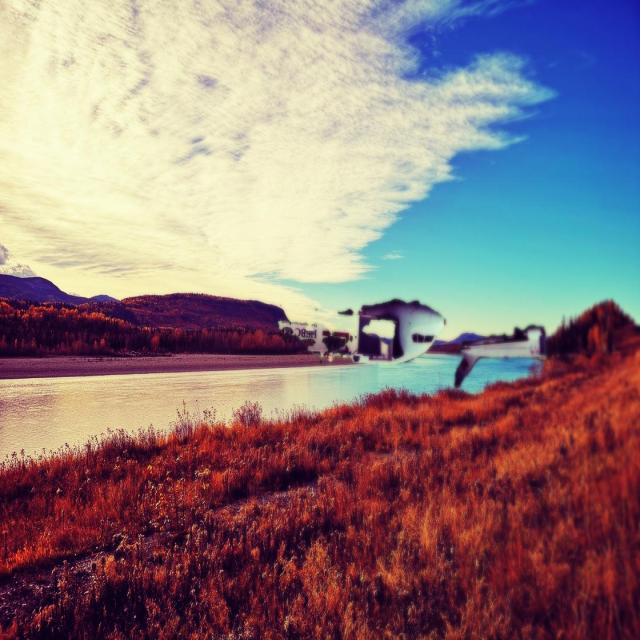airplane: (276, 297, 547, 389)
